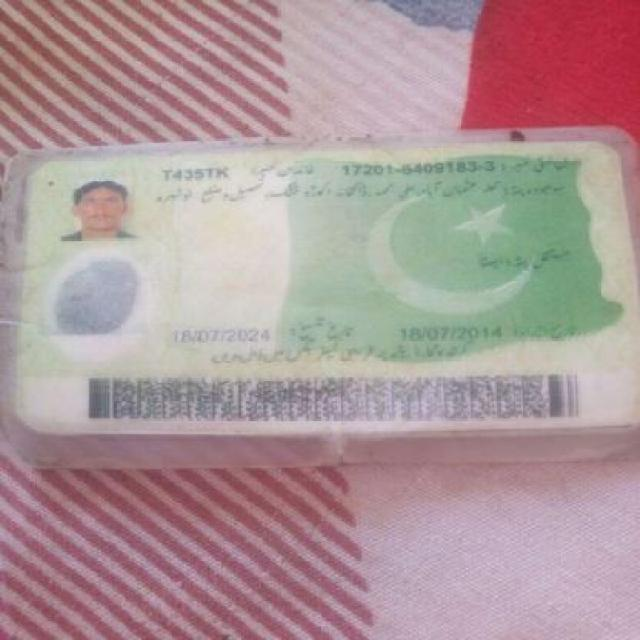Back: (9, 142, 628, 449)
